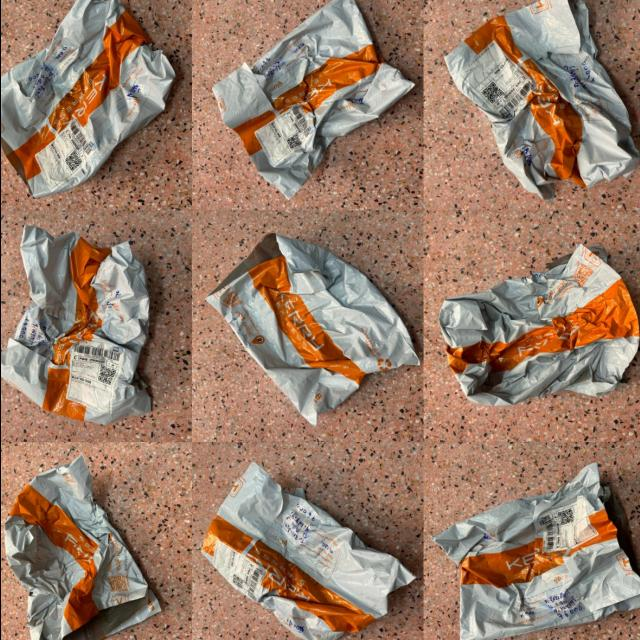plastik: (205, 234, 417, 424), (212, 0, 412, 199), (444, 0, 637, 200), (201, 463, 414, 640), (433, 463, 640, 640), (0, 0, 174, 197), (438, 245, 637, 406), (0, 226, 149, 424), (4, 457, 159, 640)
